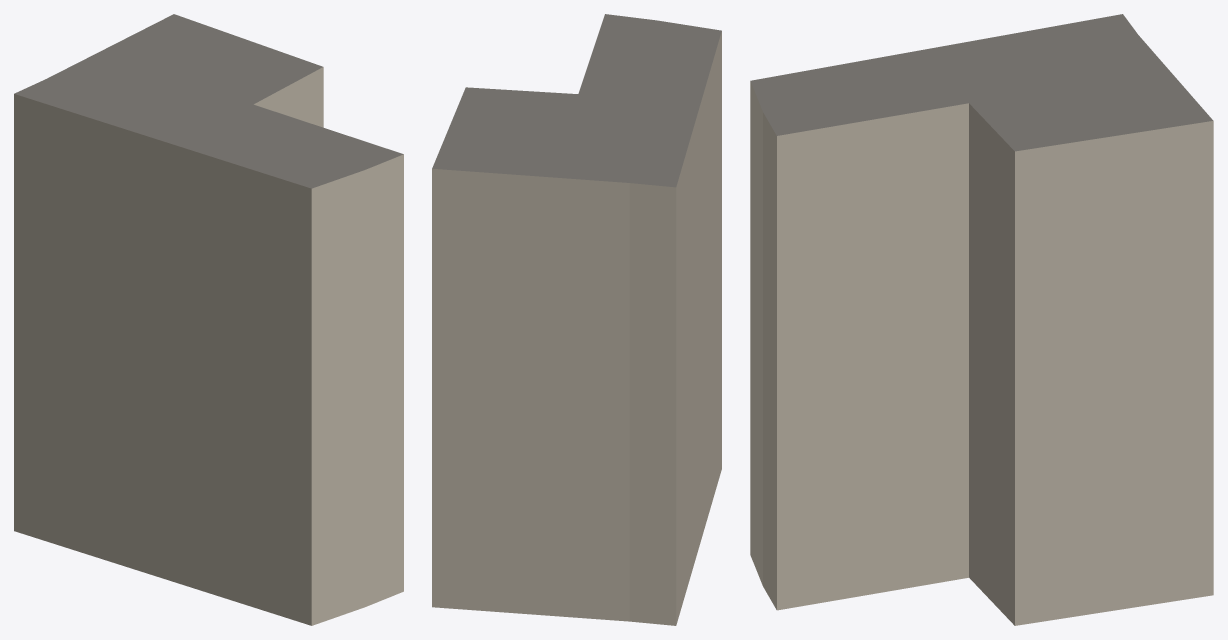
3 views of the same model, side by side, from view 1: azimuth 30°, elevation 25°; view 2: azimuth 150°, elevation 25°; view 3: azimuth 270°, elevation 25° (orthographic). The views are drawn at different scales.
Parts seen in each view (by area): view 1: HP-w1198020601; view 2: HP-w1198020601; view 3: HP-w1198020601.
Boxes of the visible parts, bbox=[...] form: HP-w1198020601: bbox=[14, 14, 403, 625]; HP-w1198020601: bbox=[432, 14, 721, 625]; HP-w1198020601: bbox=[750, 14, 1213, 625].
Bounding box in the file's own units: 11.19 × 18 × 15.92.
